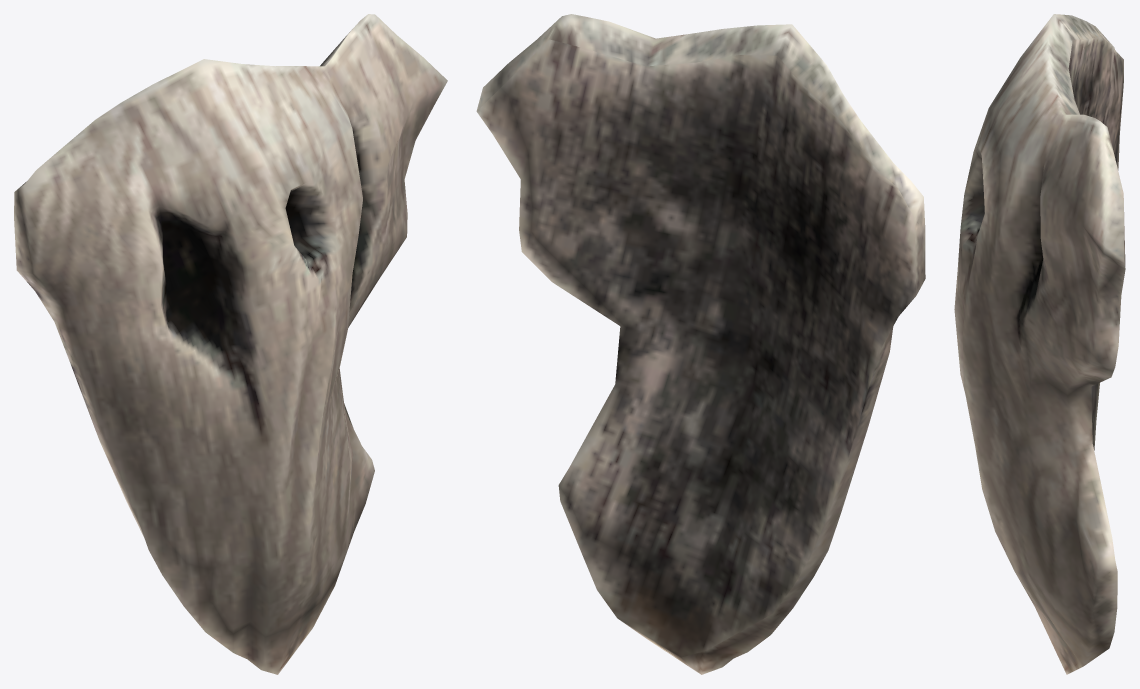
Rendered from CorruptVillagerMask_01.fbx.
3 views of the same model, side by side, from view 1: azimuth 30°, elevation 25°; view 2: azimuth 150°, elevation 25°; view 3: azimuth 270°, elevation 25° (orthographic). The views are drawn at different scales.
Parts seen in each view (by area): view 1: SM_CorruptVillager_Mask_01.mo; view 2: SM_CorruptVillager_Mask_01.mo; view 3: SM_CorruptVillager_Mask_01.mo.
Part boxes in pixels (<box>): SM_CorruptVillager_Mask_01.mo: <box>14,14,447,674</box>; SM_CorruptVillager_Mask_01.mo: <box>476,14,925,674</box>; SM_CorruptVillager_Mask_01.mo: <box>954,14,1125,674</box>.
Size of the model in its own units: 21.25 by 30.62 by 7.62.
Materials: 1 (1 with a texture image).
